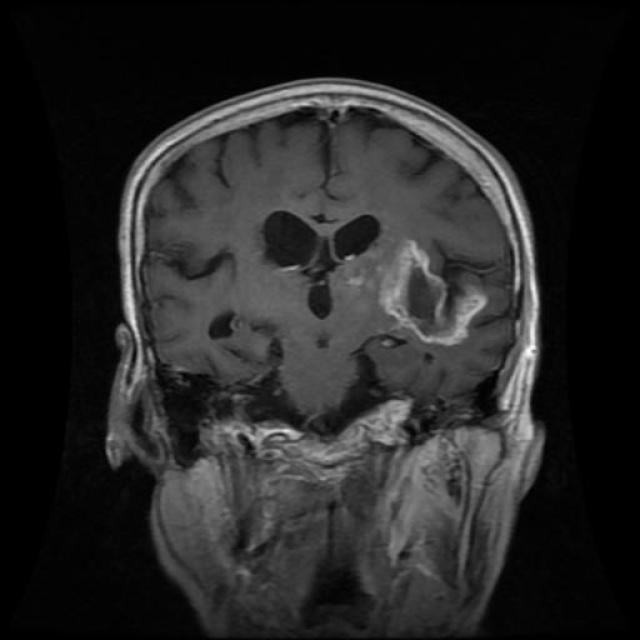glioma: (258, 212, 382, 316), (379, 236, 489, 352)
